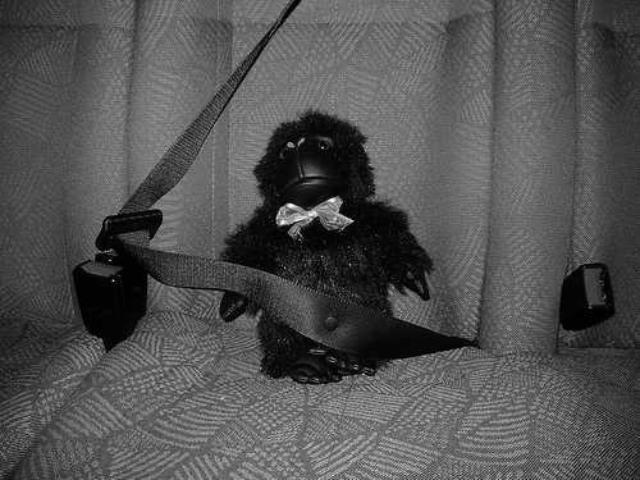Seatbelt: (95, 0, 482, 362)
